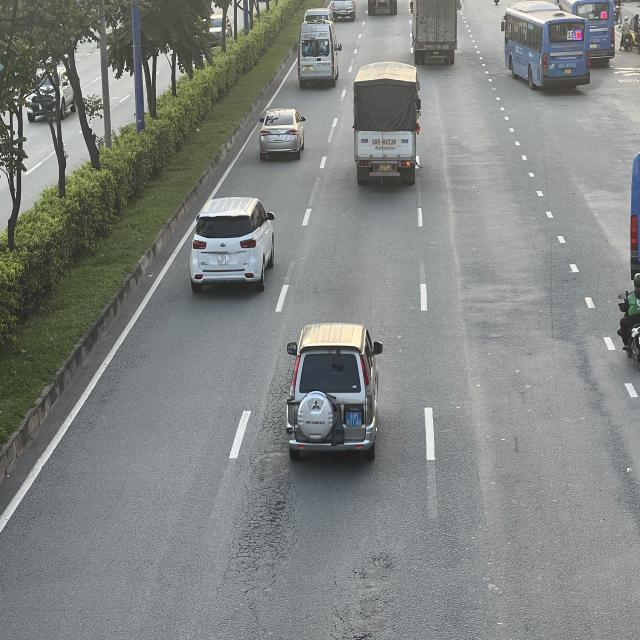car: (286, 320, 385, 460), (190, 195, 275, 291), (258, 110, 306, 162), (332, 0, 358, 20)
coach: (504, 2, 594, 91), (567, 0, 613, 63)
truck: (352, 64, 422, 188), (410, 0, 460, 63)
van: (297, 19, 341, 89)
